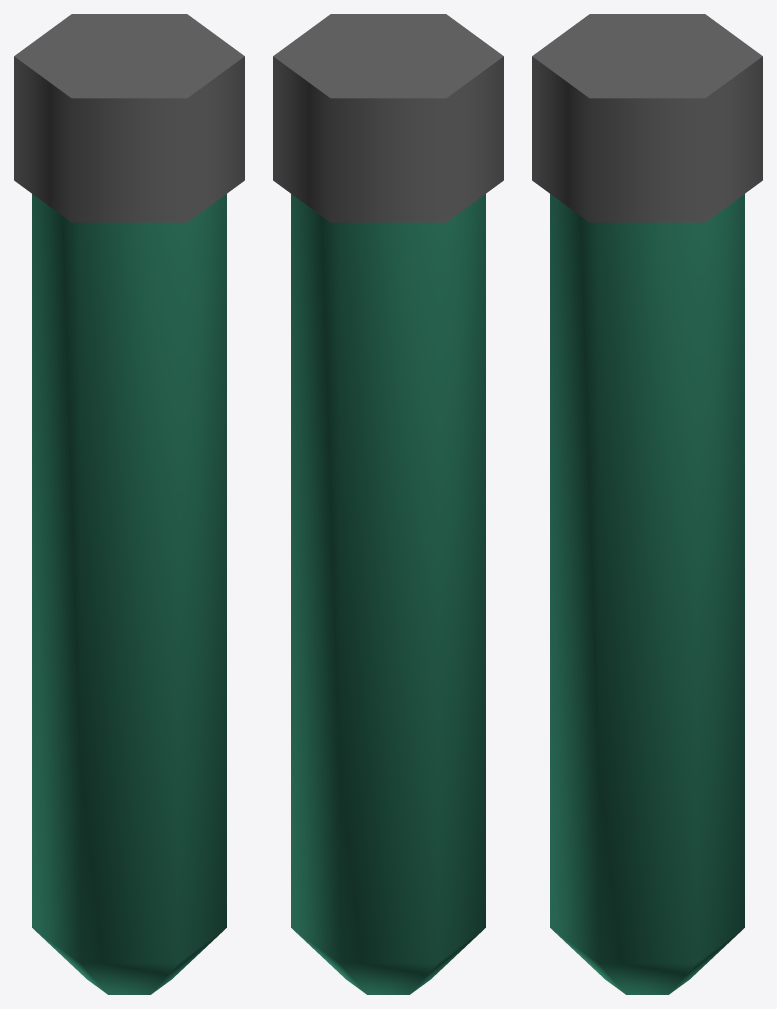
The model's file is flask3.fbx.
The picture shows the model from 3 angles, left to right: view 1: azimuth 30°, elevation 25°; view 2: azimuth 150°, elevation 25°; view 3: azimuth 270°, elevation 25°; orthographic projection.
Visible parts, largest first — view 1: flask3; view 2: flask3; view 3: flask3.
Part boxes in pixels (x1,y1,x2,y2): flask3: (14,14,244,994); flask3: (273,14,503,994); flask3: (532,14,762,994).
Bounding box in the file's own units: 0.082 × 0.4177 × 0.0946.
